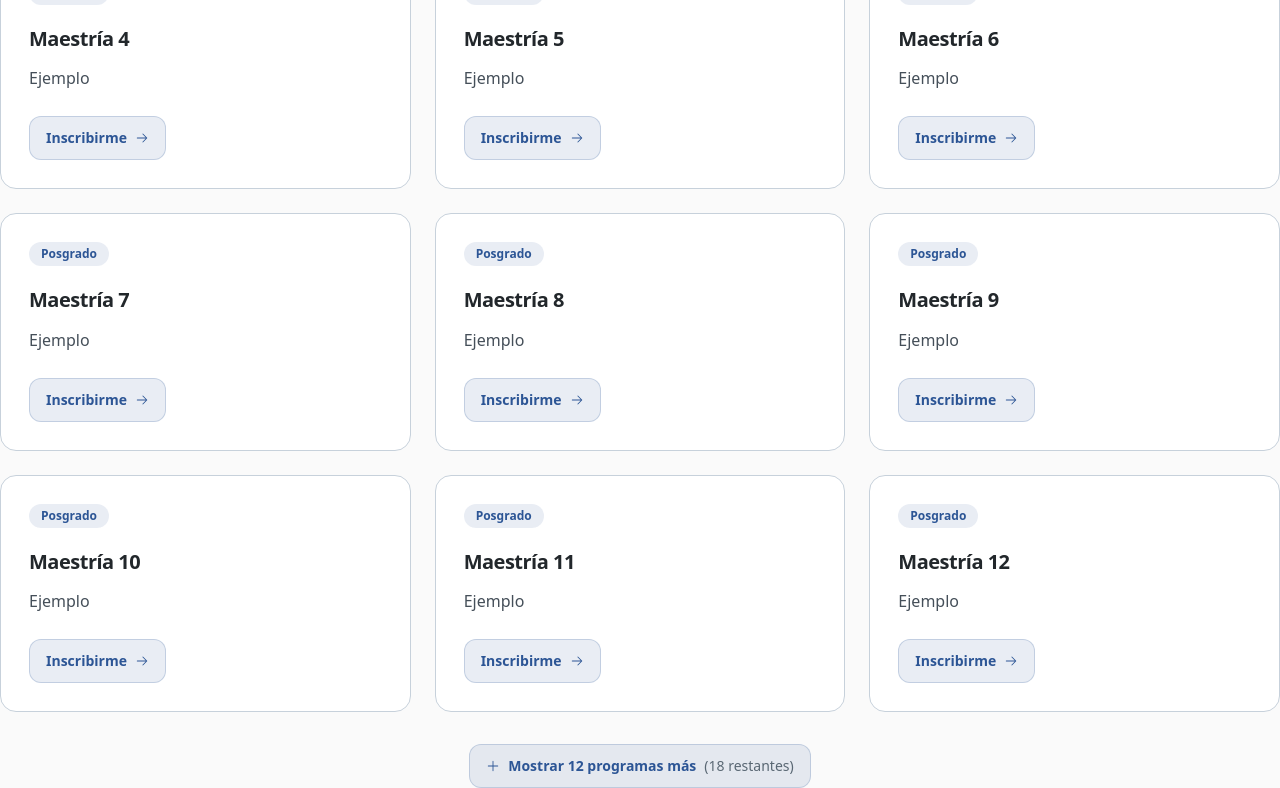
Test: paginación del catálogo › muestra 12 programas y carga más enfocando el primero nuevo
(page scrolled)
Click the button "Mostrar 12 programas más (18 restantes)" at (640, 766), box top-left (469, 744), bottom-right (811, 787)
(page scrolled)
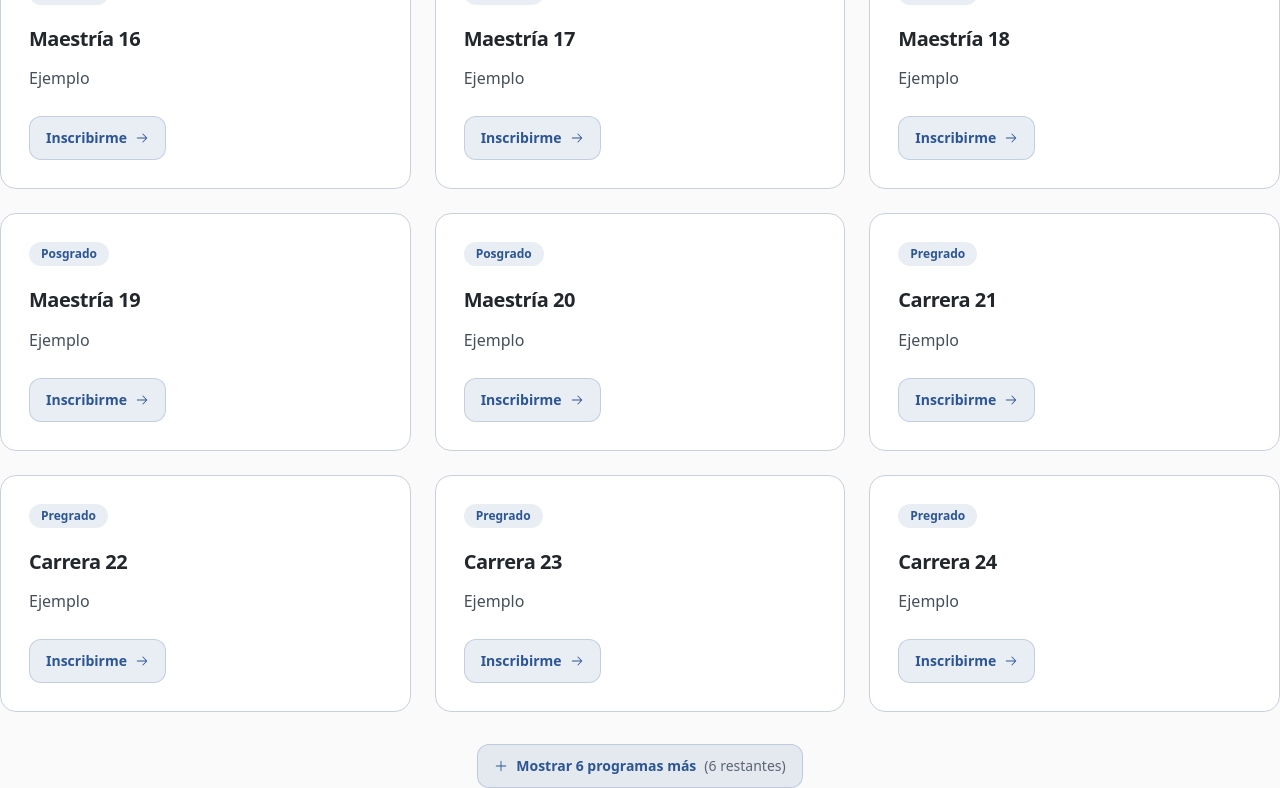
Click the button "Mostrar 6 programas más (6 restantes)" at (640, 766), box top-left (477, 744), bottom-right (803, 787)
(page scrolled)
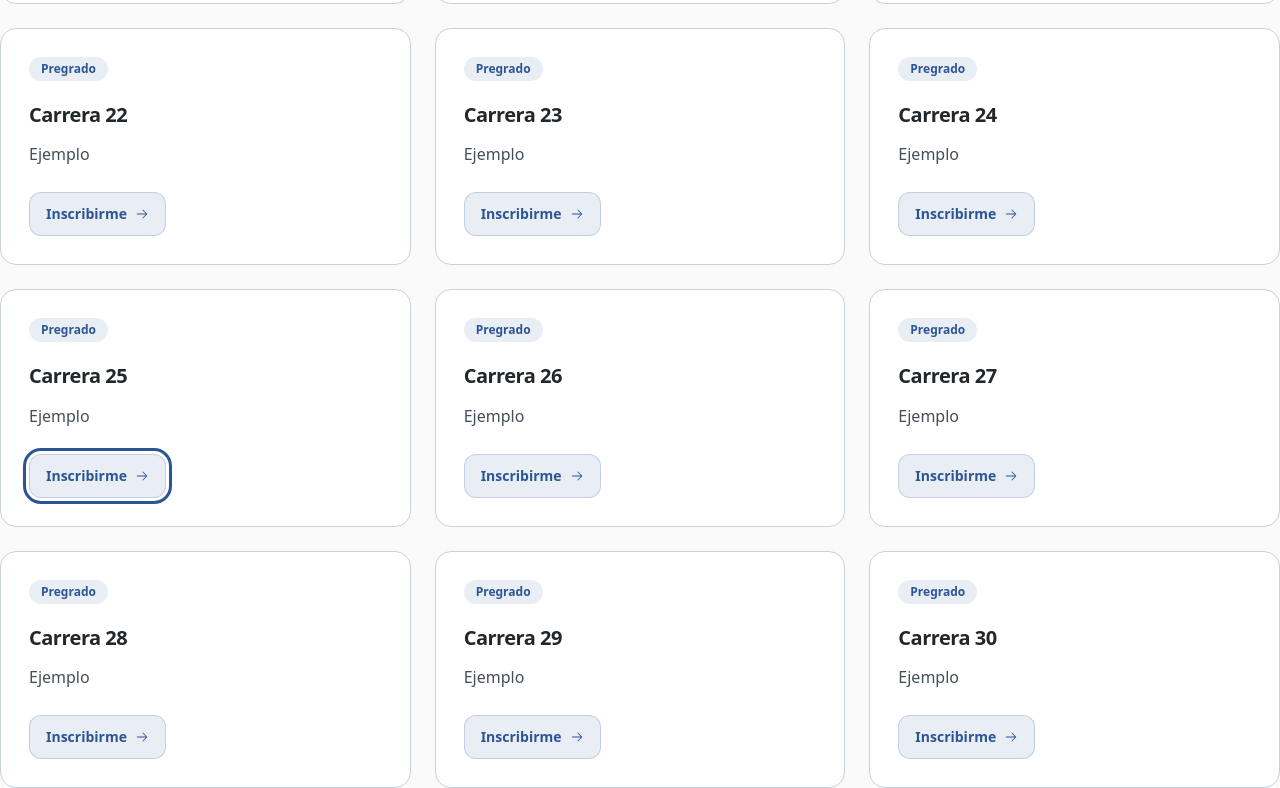
expect the button "Mostrar" is gone: met
